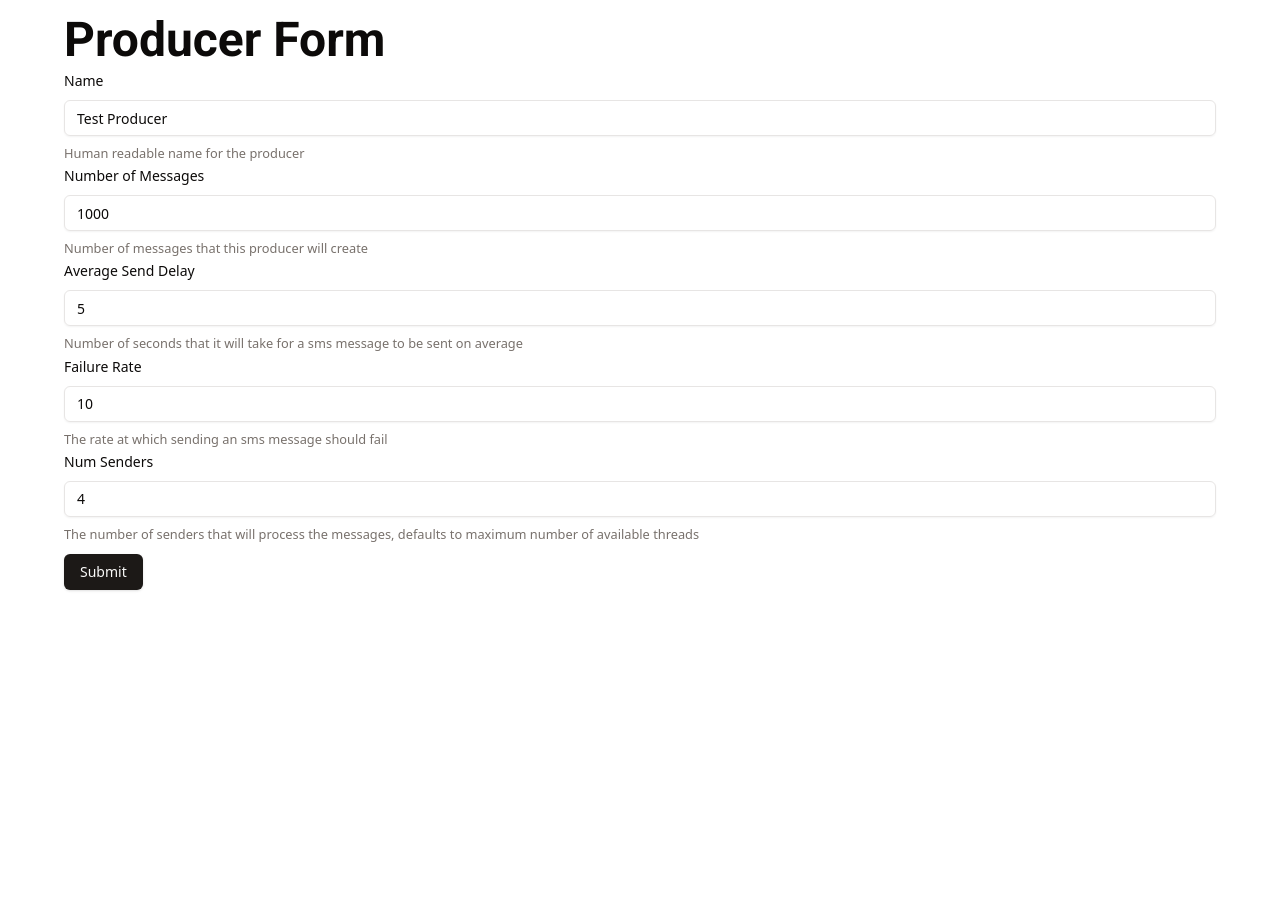
Scenario: ProducerForm › validates required fields and shows error messages when form is submitted without data
The width and height of the screenshot is (1280, 912).
Clear the field with placeholder "Producer Name" at (640, 118), box [64,100,1216,136]
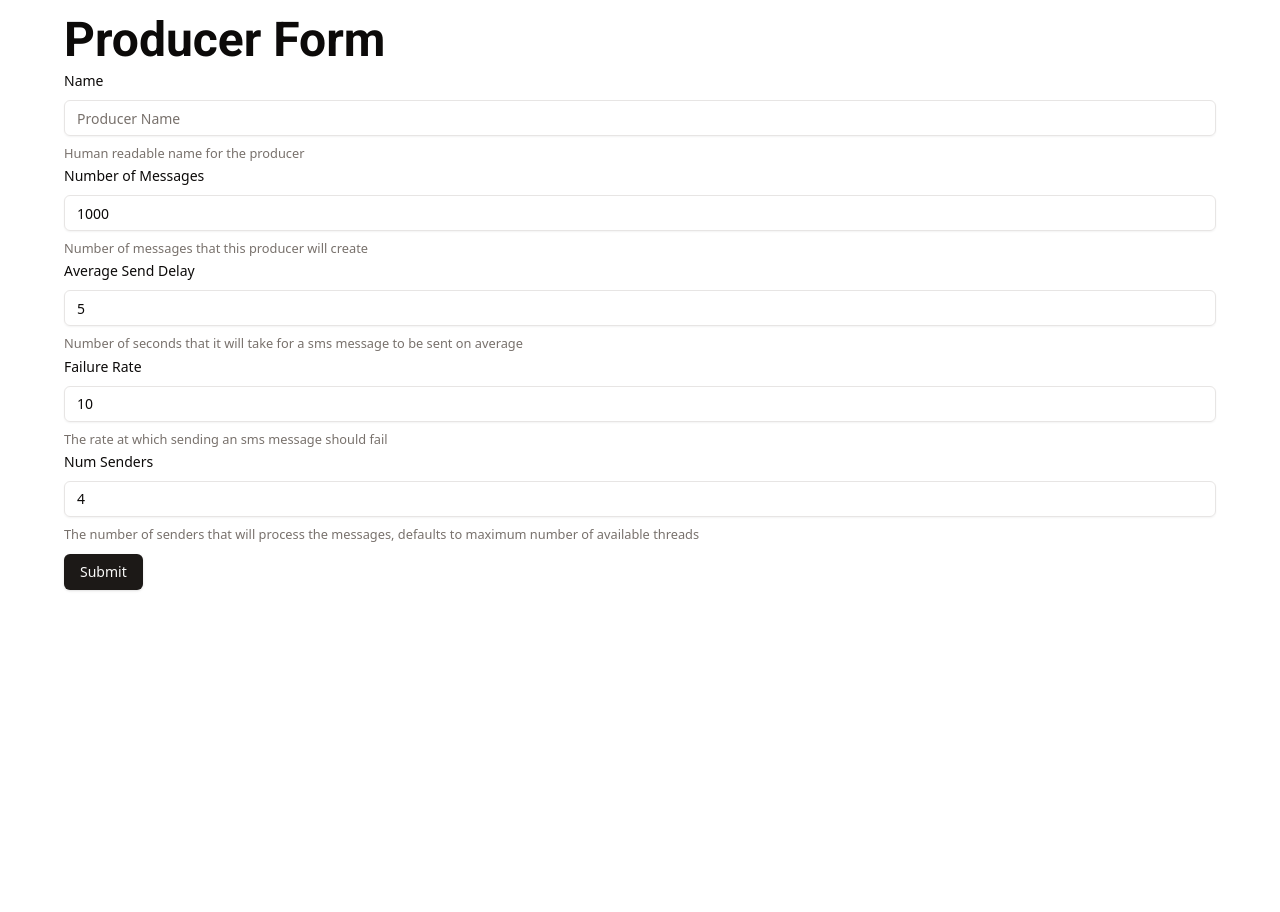
Clear the number field with placeholder "1000" at (640, 213), box [64,195,1216,231]
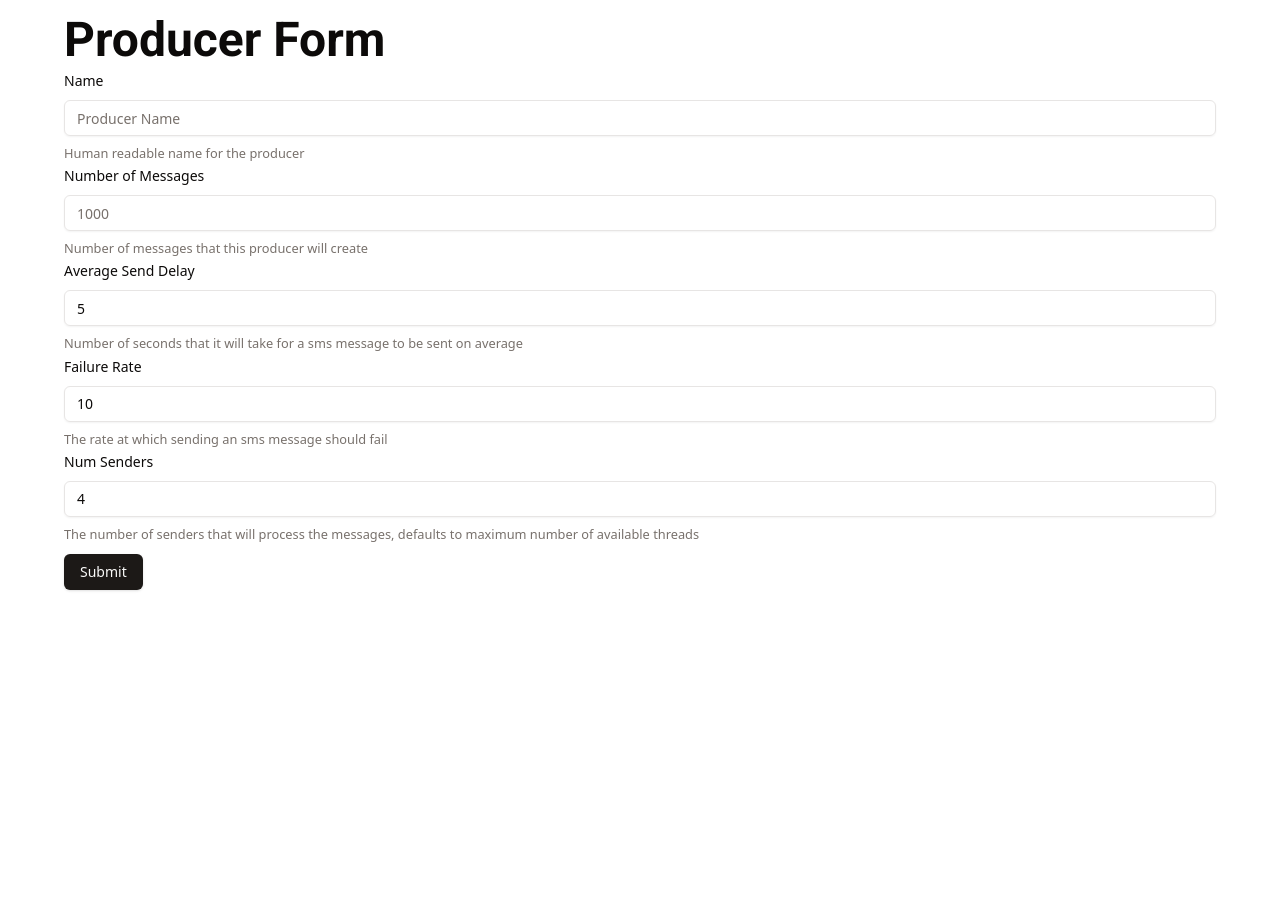
Clear the number field with placeholder "5" at (640, 308), box [64,290,1216,326]
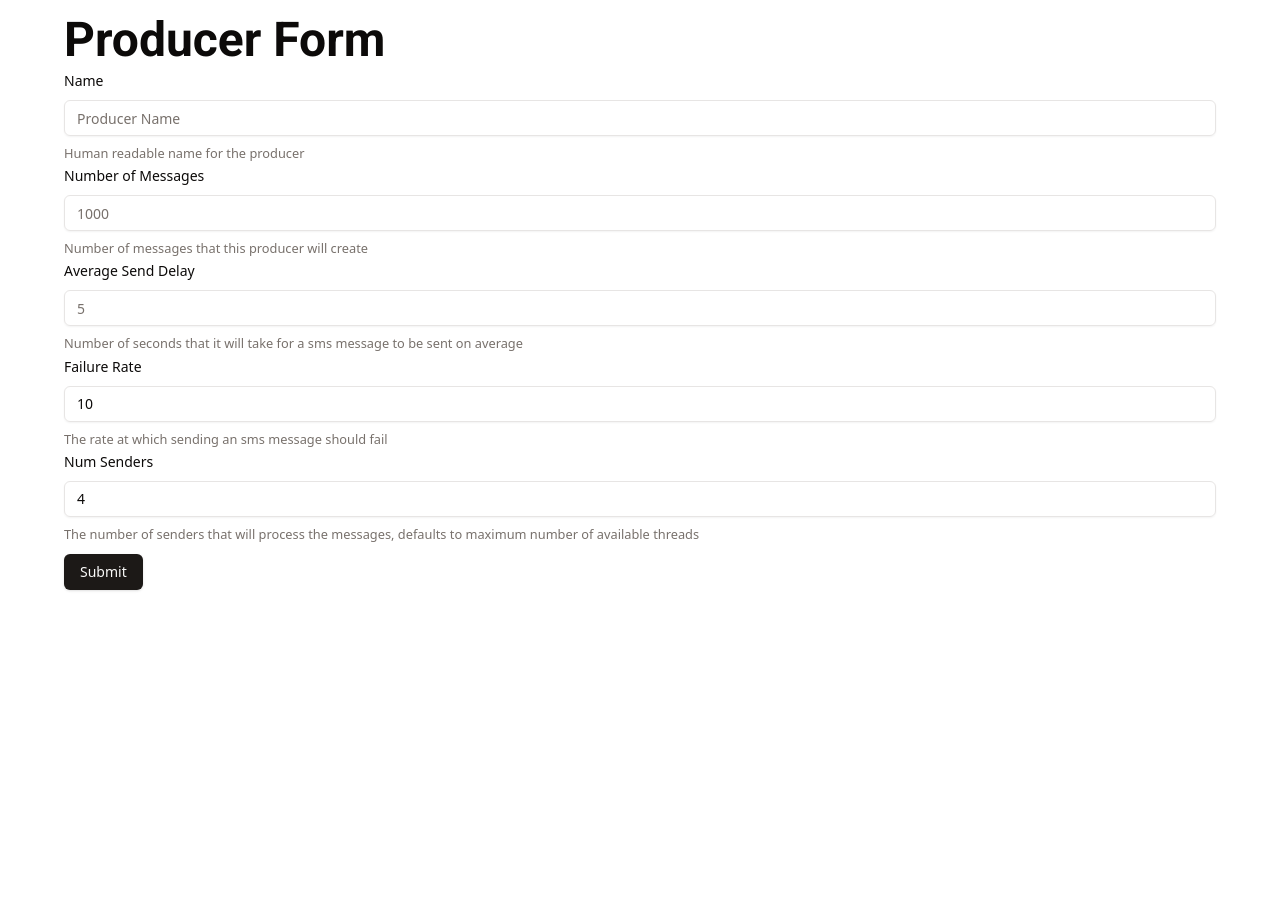
Clear the number field with placeholder "10%" at (640, 404), box [64,386,1216,422]
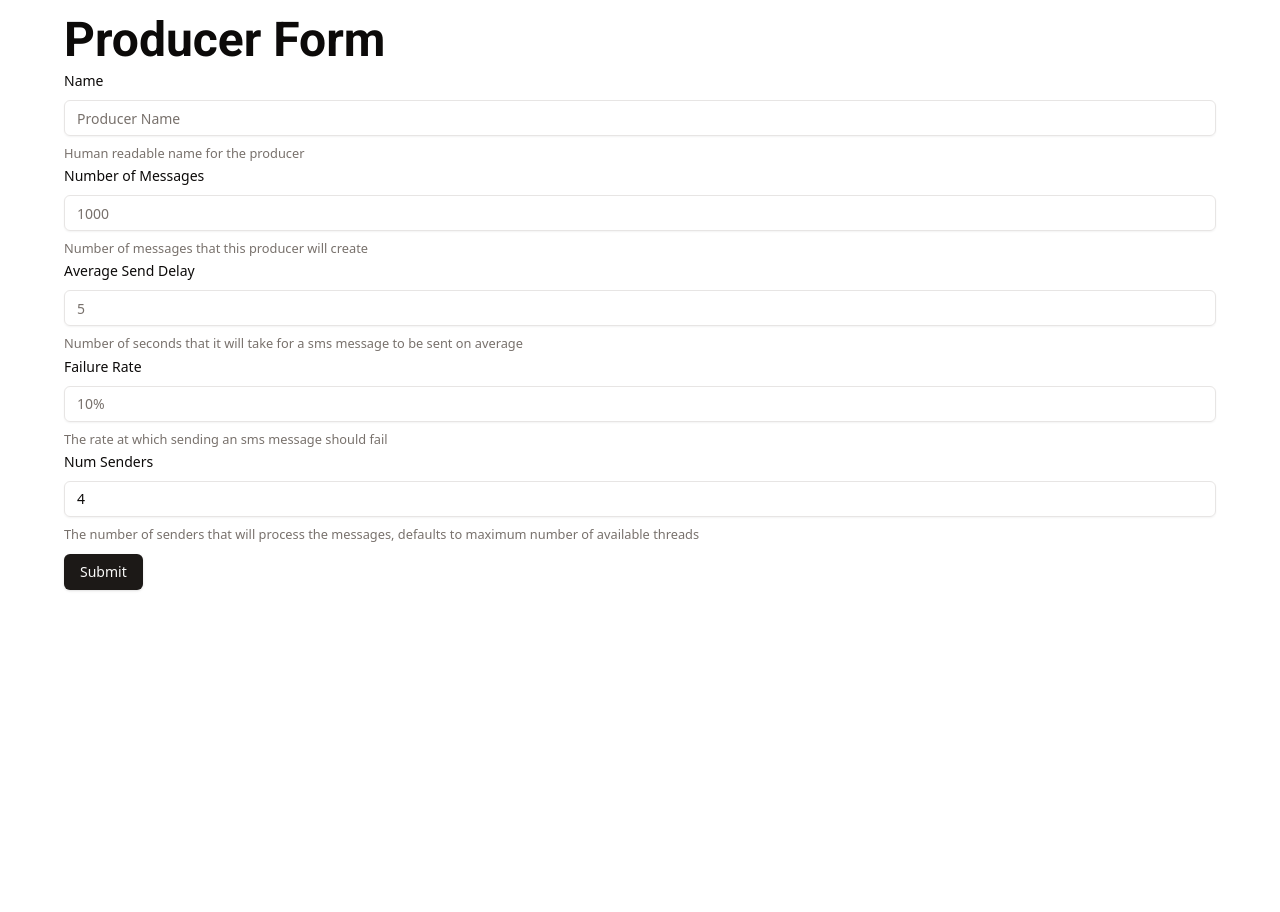
Click the button "Submit".
click(103, 572)  # box [64,554,143,590]
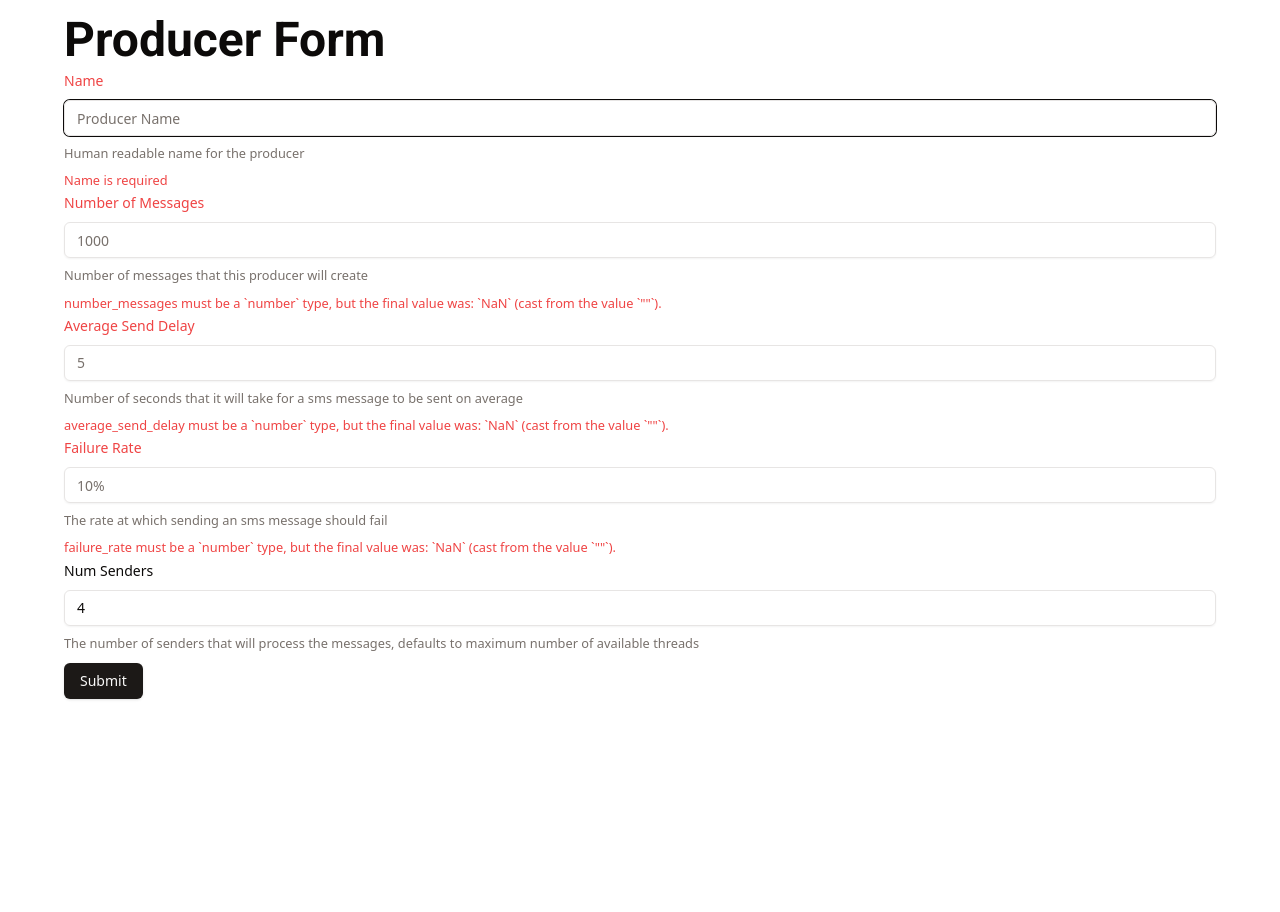
Check: the text "Name is required" is shown, box [64,171,168,189]
Check: the text "number_messages must be a `number` type, but the final value was: `NaN` (cast from the value `\"\"`)." is shown, box [64,294,662,312]
Check: the text "average_send_delay must be a `number` type, but the final value was: `NaN` (cast from the value `\"\"`)." is shown, box [64,416,669,434]
